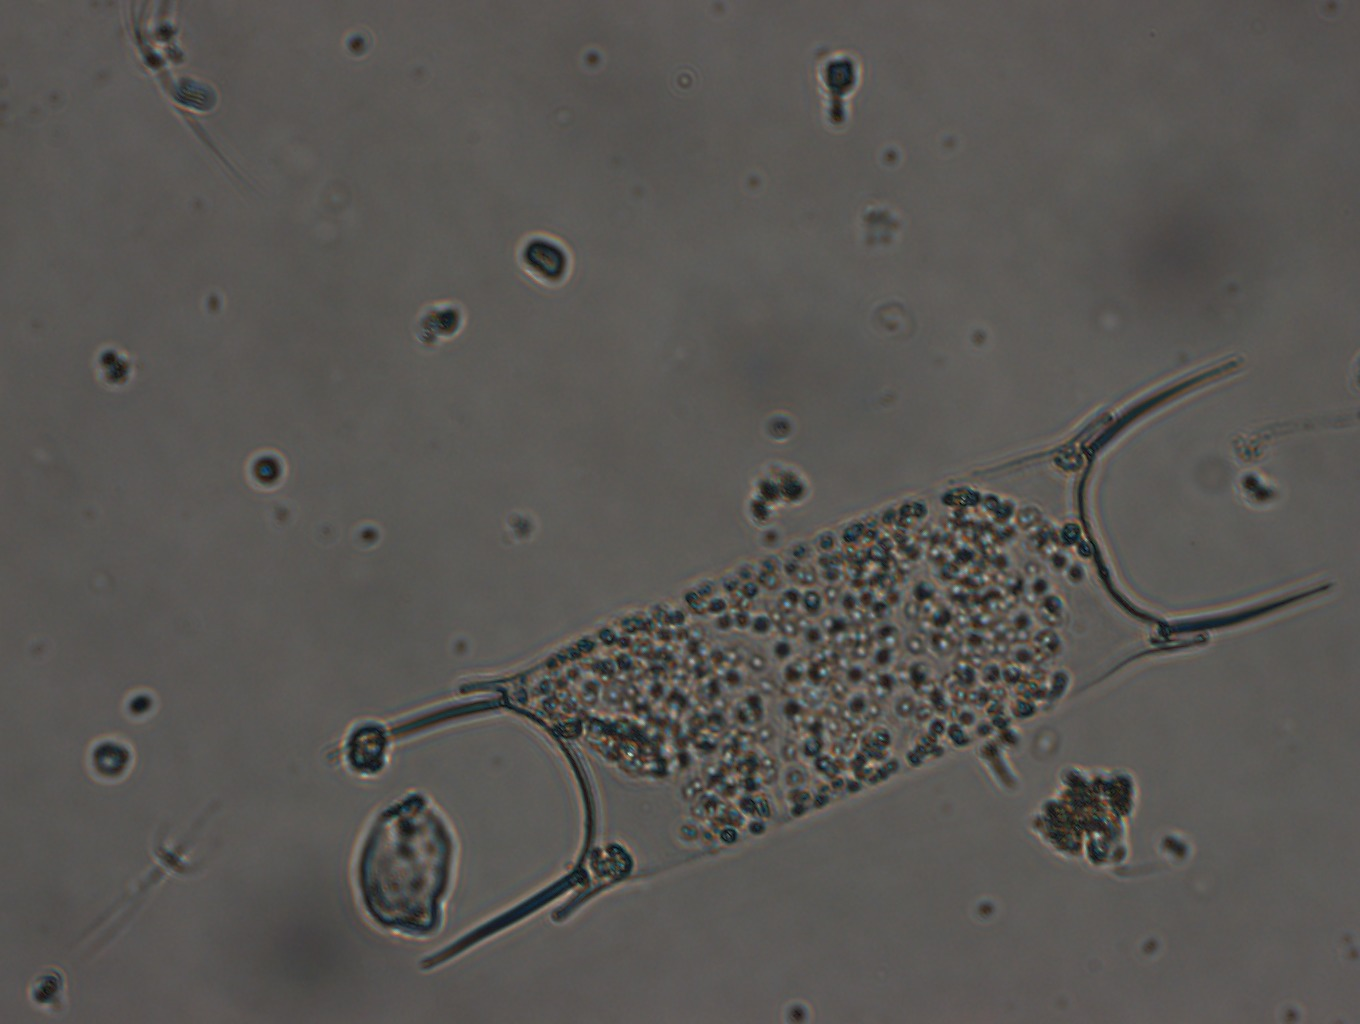biddulphia: (357, 361, 1341, 966)
